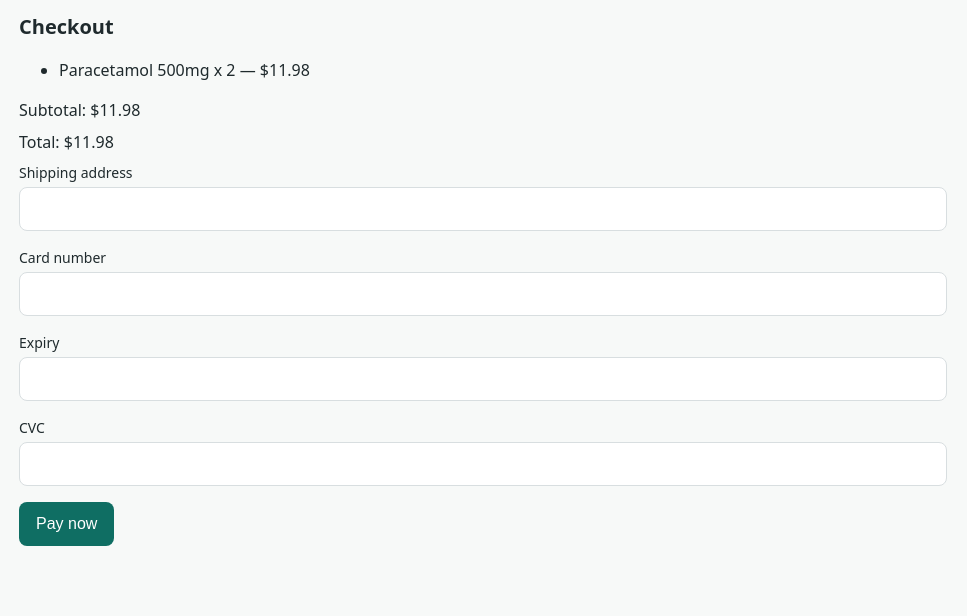
CheckoutPage › shows the decline message and preserves the form on a payment decline
This screenshot has width=967, height=616.
Type "1 Example St" into the field labelled "Shipping address".
click(483, 209); type("1 Example St")  # box 19,187 -> 947,231
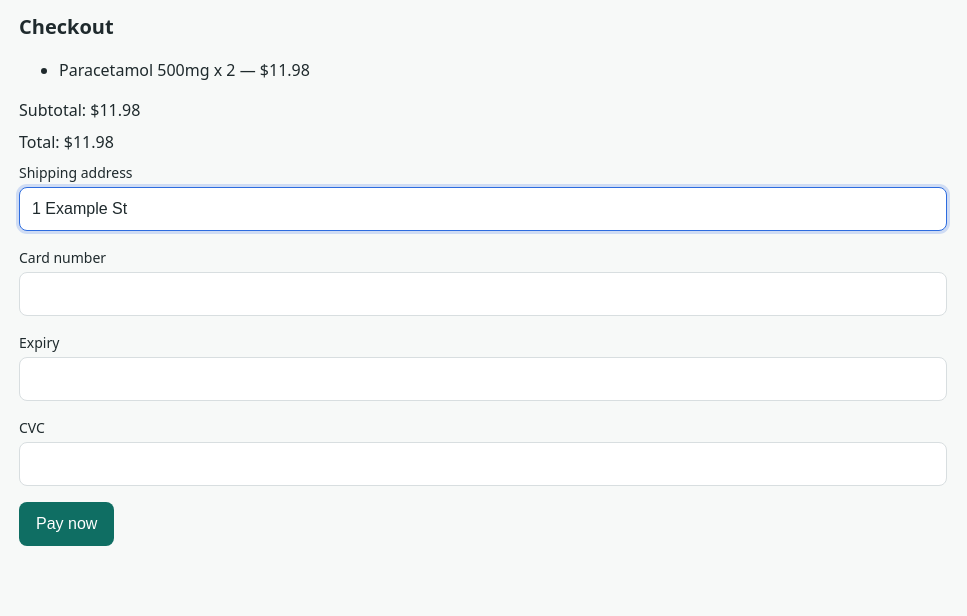
Type "4000000000000002" into the field labelled "Card number".
click(483, 294); type("4000000000000002")  # box 19,272 -> 947,316
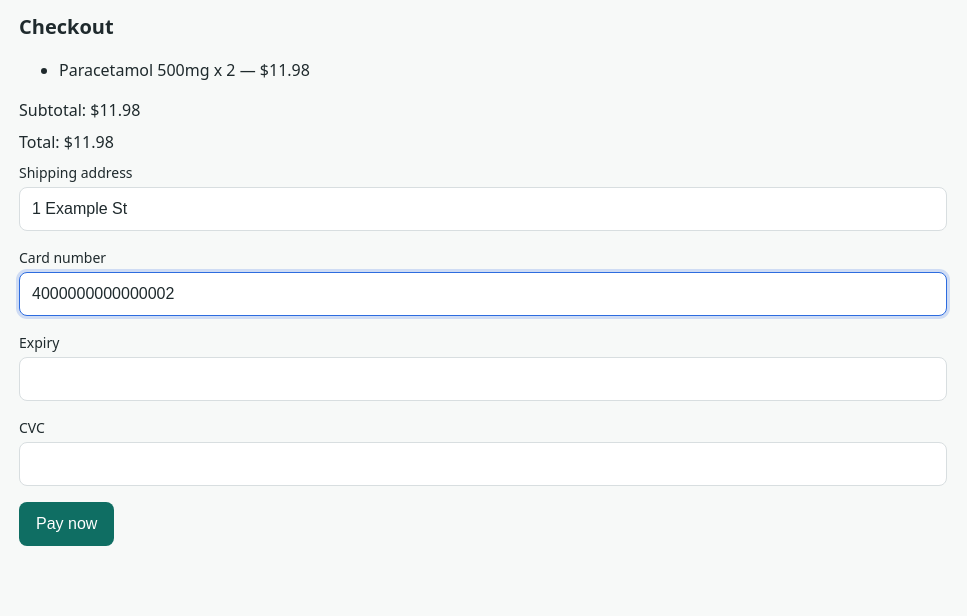
Type "12/30" into the field labelled "Expiry".
click(483, 379); type("12/30")  # box 19,357 -> 947,401
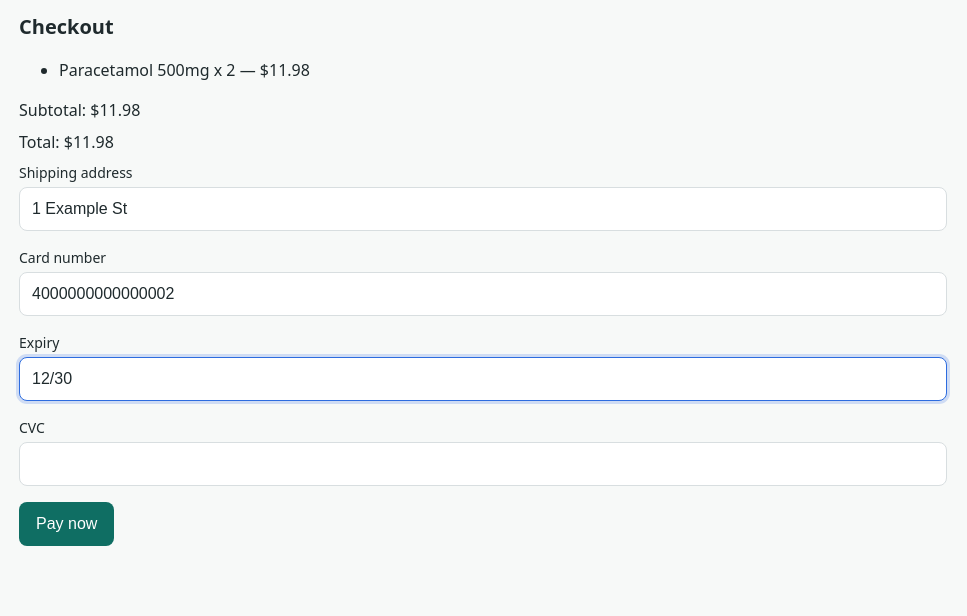
Type "123" into the field labelled "CVC".
click(483, 464); type("123")  # box 19,442 -> 947,486
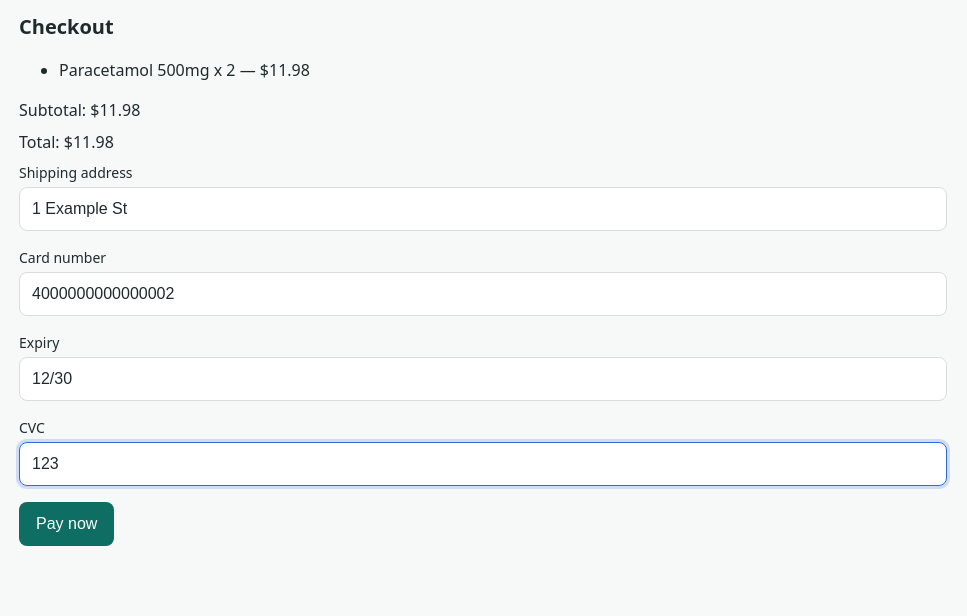
Click the button "Pay now".
click(67, 524)  # box 19,502 -> 114,546
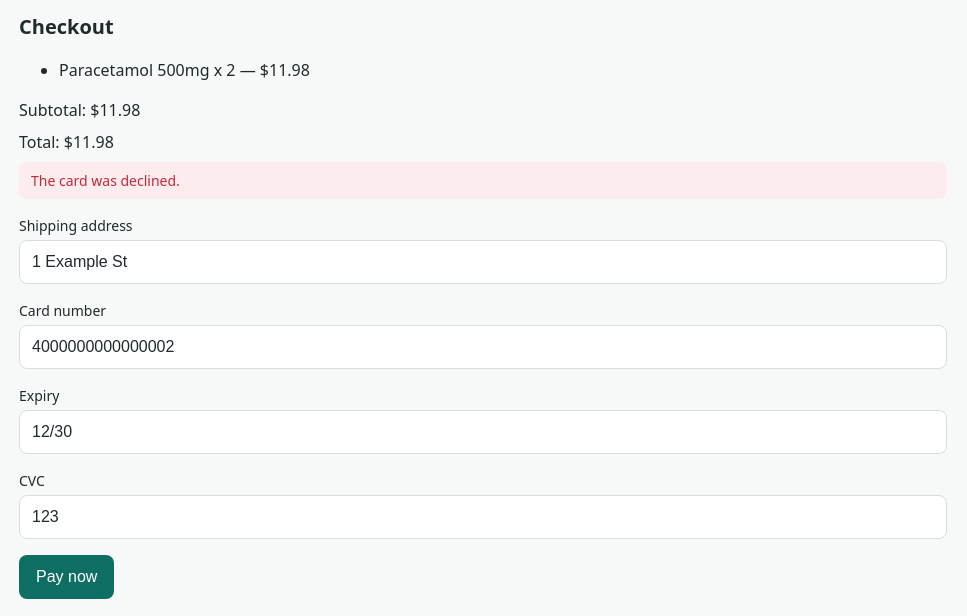
Expected: the message reads "The card was declined.", 31,171 -> 180,190
